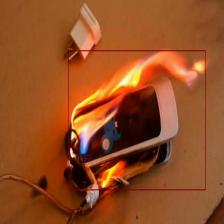fire: (68, 50, 206, 190)
